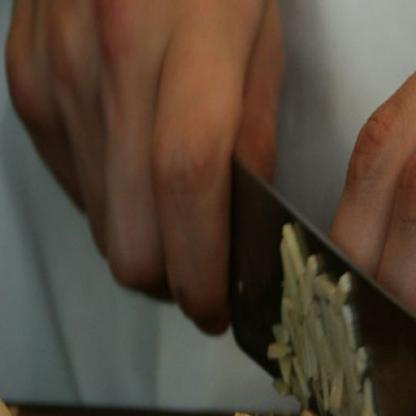knife: (230, 153, 415, 415)
